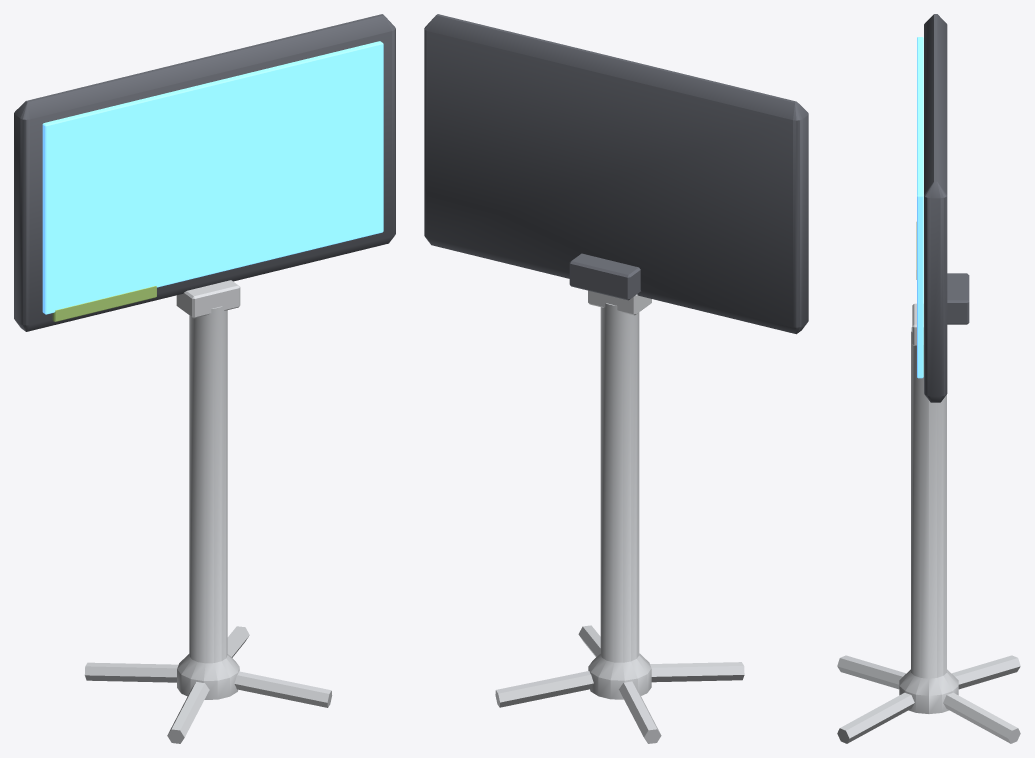
The model's file is laser-tag-arena-and-activity-centre-briefing-screen-on-4cca5937__34493.glb.
The picture shows the model from 3 angles, left to right: view 1: azimuth 30°, elevation 25°; view 2: azimuth 150°, elevation 25°; view 3: azimuth 270°, elevation 25°; orthographic projection. The views are drawn at different scales.
Visible parts, largest first — view 1: tilt-head/screen, briefing-screen-on-stand, tilt-head, tilt-head/lime; view 2: tilt-head, briefing-screen-on-stand; view 3: briefing-screen-on-stand, tilt-head, tilt-head/screen.
Part boxes in pixels (x1,y1,x2,y2): tilt-head/screen: [42, 41, 383, 314]; briefing-screen-on-stand: [84, 280, 332, 743]; tilt-head: [14, 14, 395, 331]; tilt-head/lime: [52, 286, 156, 321]; tilt-head: [424, 14, 808, 334]; briefing-screen-on-stand: [495, 290, 744, 743]; briefing-screen-on-stand: [837, 303, 1020, 743]; tilt-head: [924, 14, 969, 402]; tilt-head/screen: [917, 37, 923, 378].
Size of the model in its own units: 1.24 by 2 by 0.5459.
